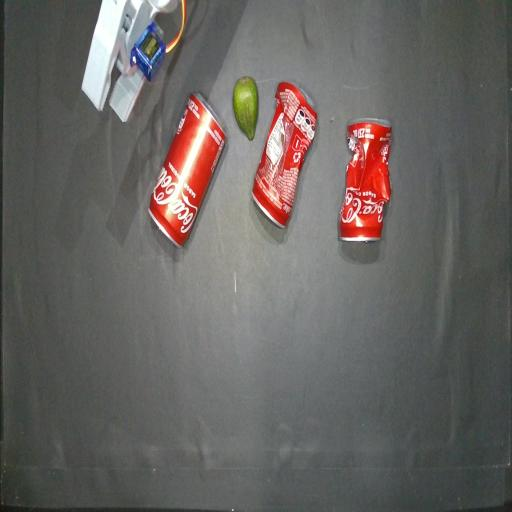higo: (233, 77, 258, 140)
lata: (149, 93, 226, 246)
lata_defectuoso: (252, 81, 318, 228), (339, 118, 391, 241)
